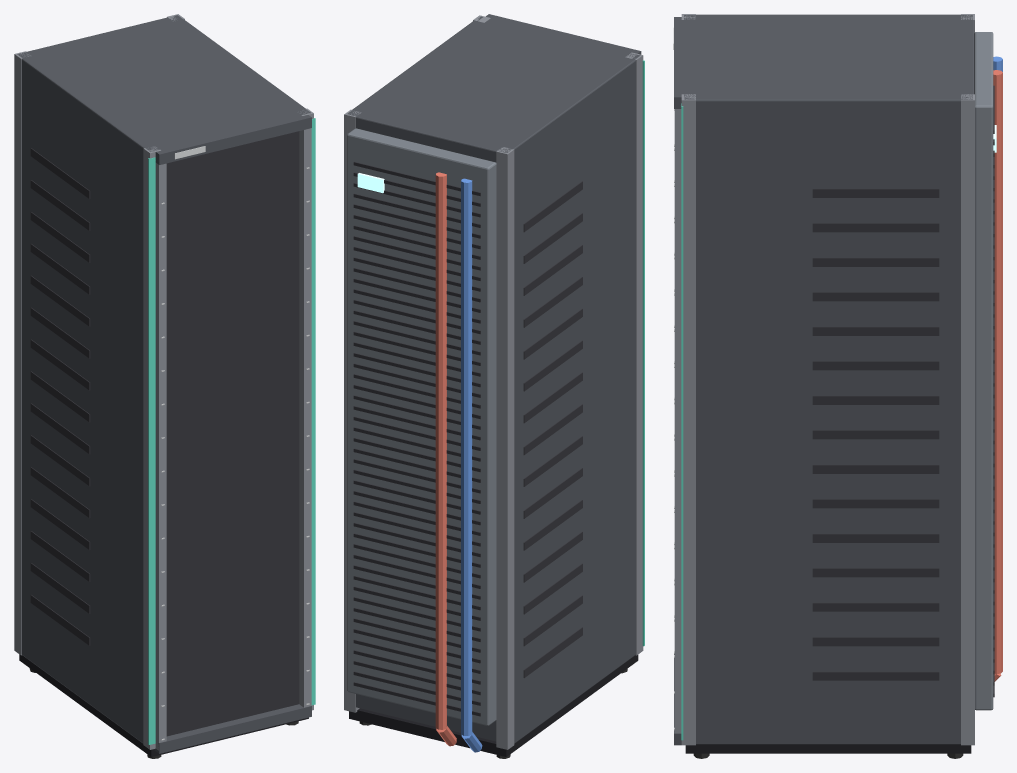
File: rack_ai.fbx
3 views of the same model, side by side, from view 1: azimuth 30°, elevation 25°; view 2: azimuth 150°, elevation 25°; view 3: azimuth 270°, elevation 25° (orthographic). The views are drawn at different scales.
Parts seen in each view (by area): view 1: rack_ai; view 2: rack_ai; view 3: rack_ai.
Boxes of the visible parts, x1,y1,x2,y2 form: rack_ai: (14,14,315,758); rack_ai: (344,14,644,758); rack_ai: (673,14,1002,758).
Size of the model in its own units: 0.656 by 2.3 by 1.04.
